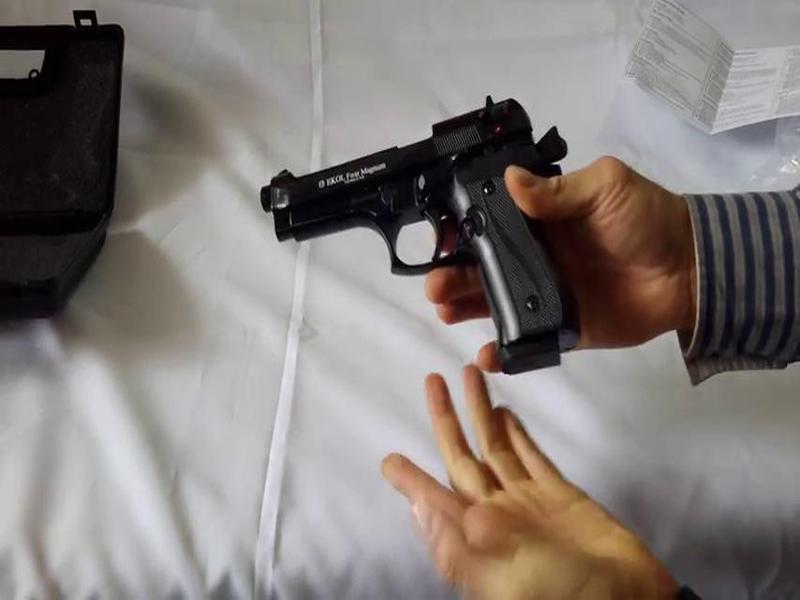Pistola: (257, 92, 575, 362)
